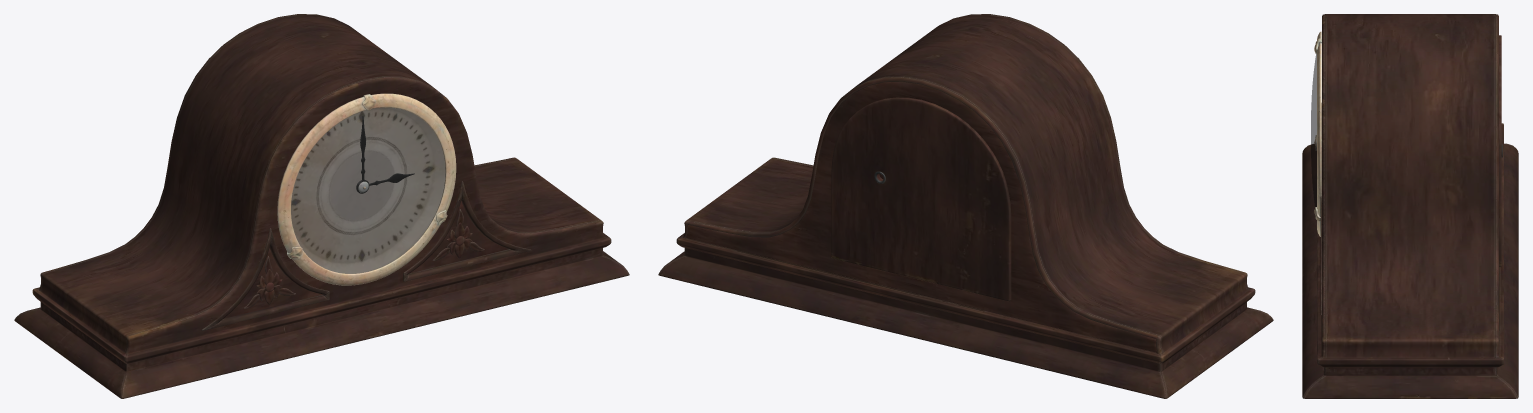
The model's file is mantel_clock_01.glb.
3 views of the same model, side by side, from view 1: azimuth 30°, elevation 25°; view 2: azimuth 150°, elevation 25°; view 3: azimuth 270°, elevation 25° (orthographic).
Visible parts, largest first — view 1: mantel_clock_01, mantel_clock_01_glass; view 2: mantel_clock_01; view 3: mantel_clock_01, mantel_clock_01_glass.
Part boxes in pixels (bbox=[...]): mantel_clock_01: bbox=[14, 14, 629, 398]; mantel_clock_01_glass: bbox=[291, 107, 445, 273]; mantel_clock_01: bbox=[658, 14, 1273, 398]; mantel_clock_01: bbox=[1302, 14, 1518, 398]; mantel_clock_01_glass: bbox=[1311, 53, 1316, 207].
Bounding box in the file's own units: 0.3423 × 0.1605 × 0.1262.
Materials: 2 (2 with a texture image).
